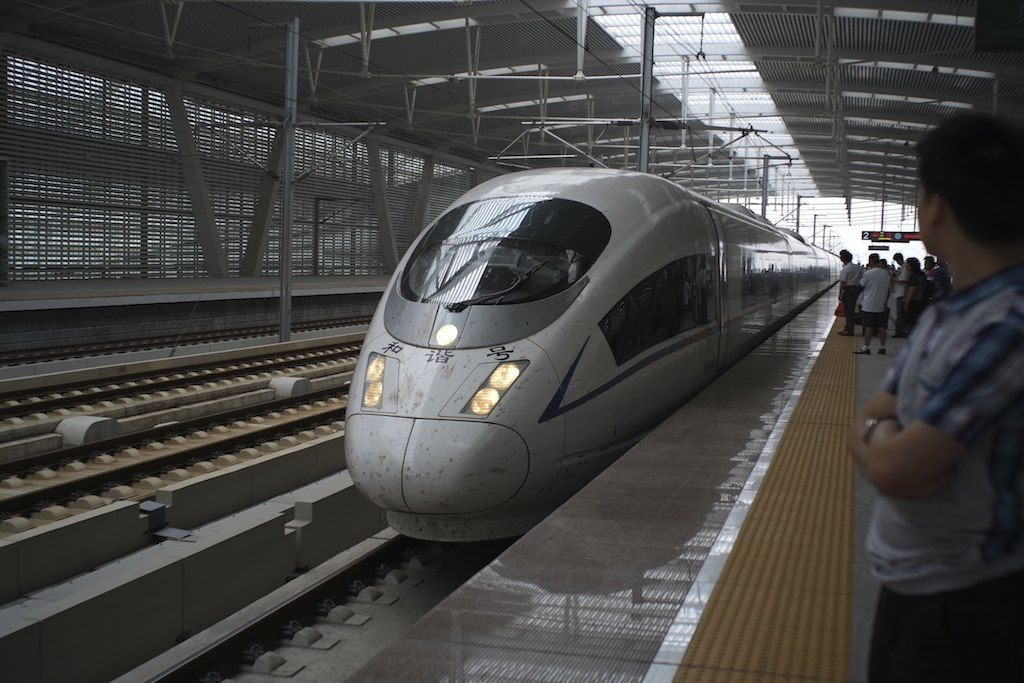Person: (838, 115, 1024, 683), (834, 248, 956, 353)
